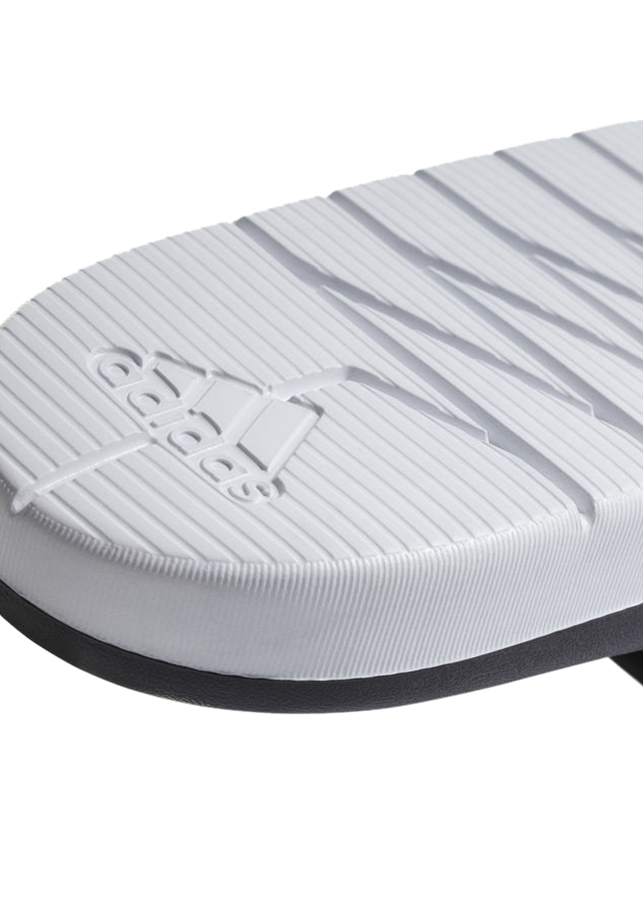Adidas: (77, 333, 328, 512)
